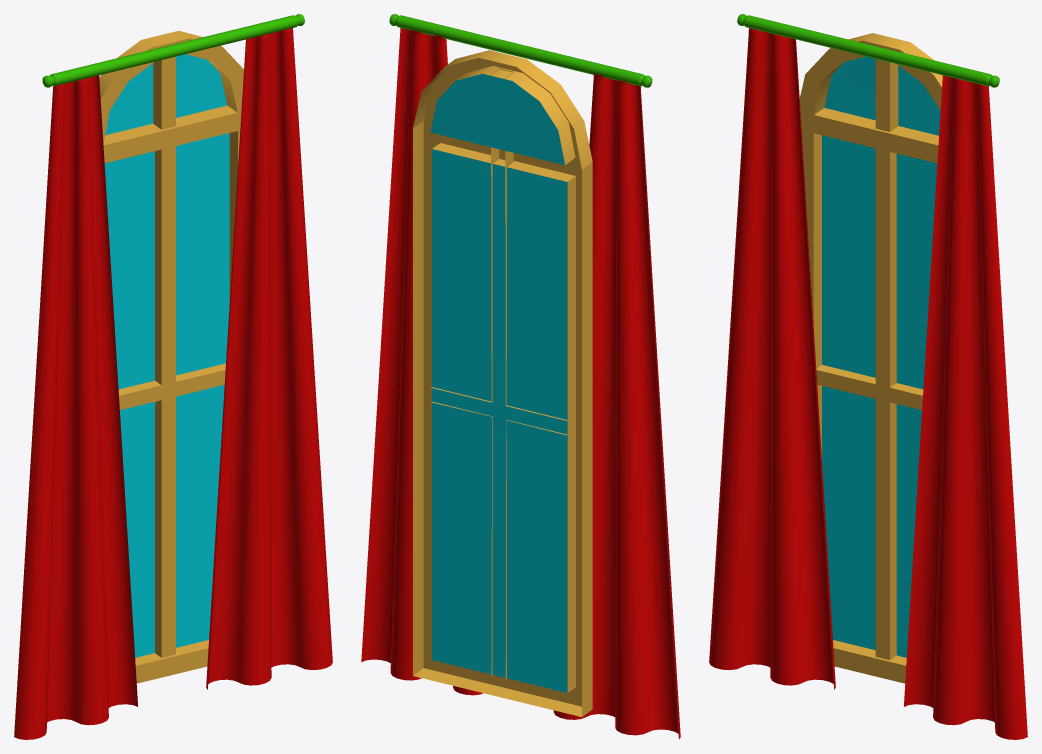
File: Window_UVed_2.fbx
3 renders of one model, left to right at view 1: azimuth 30°, elevation 25°; view 2: azimuth 150°, elevation 25°; view 3: azimuth 330°, elevation 25°, orthographic.
Parts seen in each view (by area): view 1: polySurface6, polySurface9; view 2: polySurface9, polySurface6; view 3: polySurface6, polySurface9.
Part boxes in pixels (left/top/right/bottom): polySurface6: left=14, top=14, right=332, bottom=739; polySurface9: left=99, top=30, right=243, bottom=683; polySurface9: left=413, top=50, right=592, bottom=716; polySurface6: left=361, top=14, right=680, bottom=739; polySurface6: left=709, top=14, right=1027, bottom=739; polySurface9: left=799, top=33, right=942, bottom=683.
Bounding box in the file's own units: 4.22 × 8.31 × 0.591.
